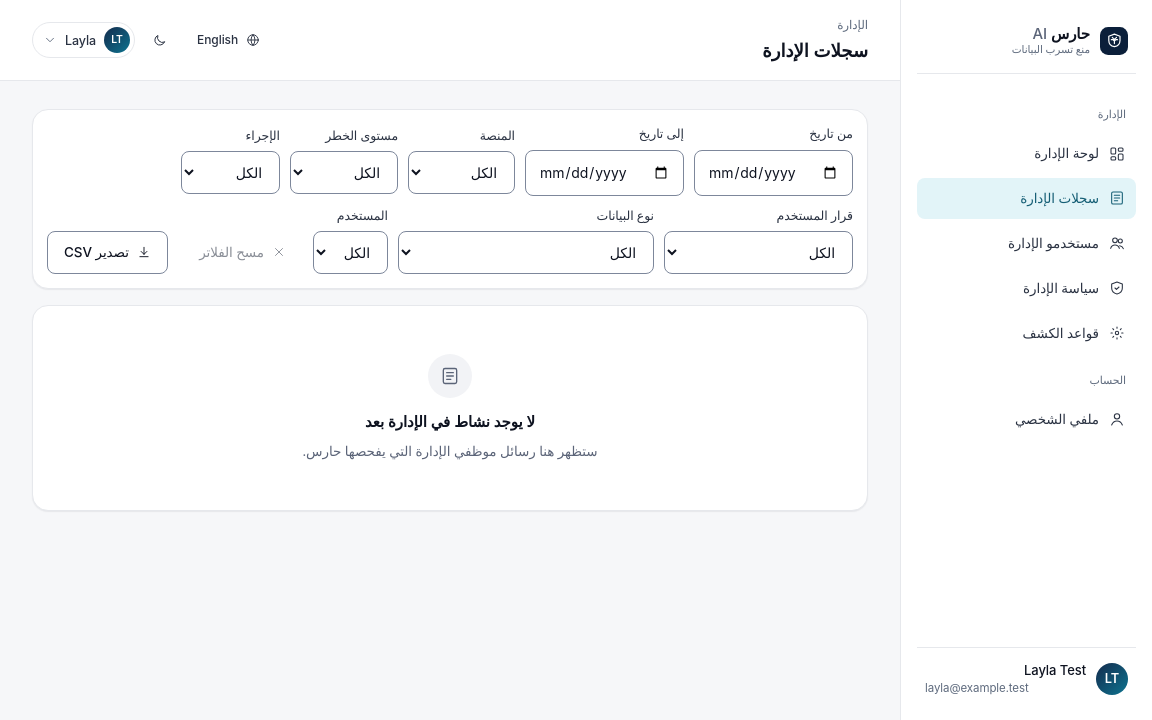
Scenario: department logs › export failure is shown next to the button
Click the button "تصدير CSV" at [107, 252], box [47,231,168,274]
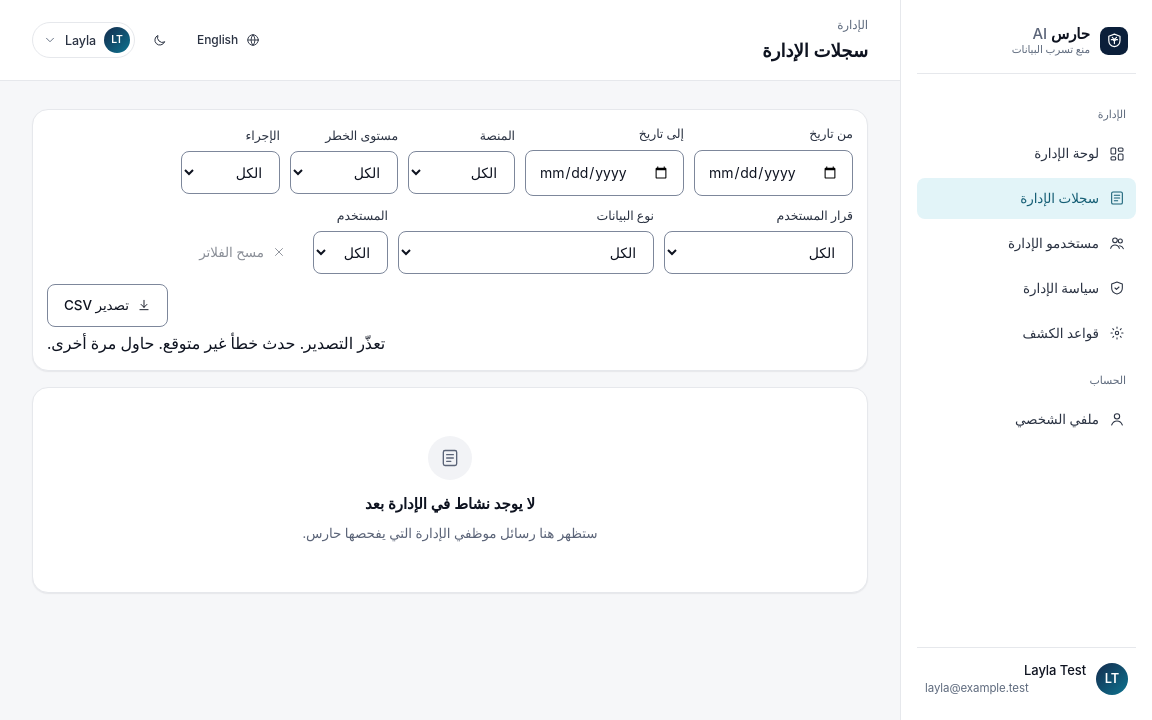
Now the text "تعذّر التصدير. حدث خطأ غير متوقع. حاول مرة أخرى." is shown, box [47,331,385,356]
